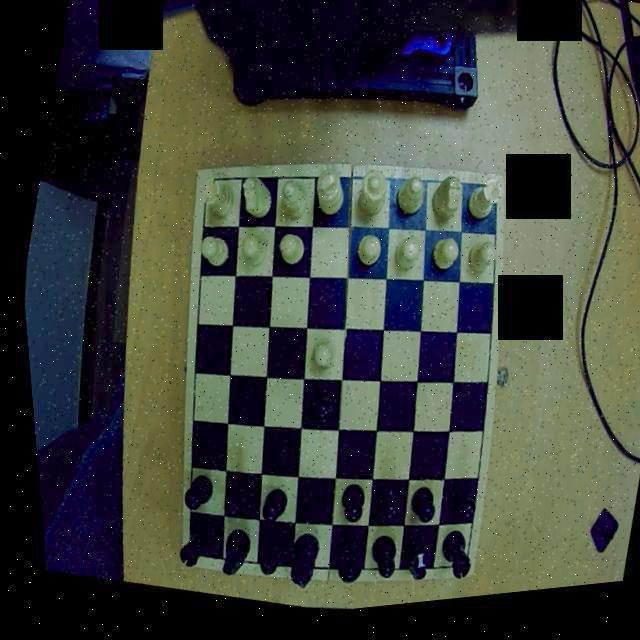chess-table-corners: (472, 184, 503, 216), (192, 169, 220, 201), (168, 538, 194, 572), (438, 561, 465, 590)
